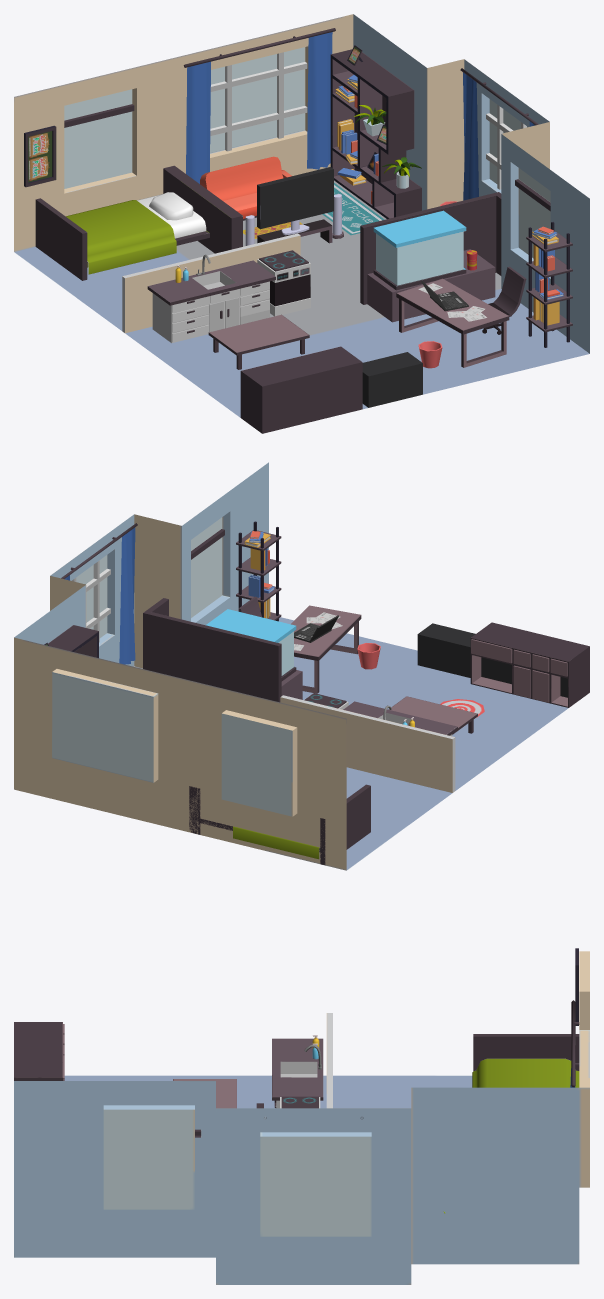
File: LivingRoom.fbx
The picture shows the model from 3 angles, top to bottom: view 1: azimuth 30°, elevation 25°; view 2: azimuth 150°, elevation 25°; view 3: azimuth 270°, elevation 25°; orthographic projection. The views are drawn at different scales.
Parts seen in each view (by area): view 1: Room, Bed, Table3, Window1, BookShelf.Big, Sink, Table1, FishTank, TV, Wall.Small, WorkingTable, Books (+11 smaller); view 2: Room, Table3, Table1, Wall.Small, Bed, Window2, WorkingTable, FishTank, BookShelf.Small, Table2, Sink, Books (+2 smaller); view 3: Room, Bed, Sink, Table3, Table2, Wall.Small, Window1, Stove.
Part boxes in pixels (bbox=[...]): Room: bbox=[14, 14, 589, 417]; Bed: bbox=[35, 165, 242, 280]; Table3: bbox=[240, 346, 422, 433]; Window1: bbox=[64, 28, 550, 211]; BookShelf.Big: bbox=[330, 49, 421, 218]; Sink: bbox=[147, 254, 275, 343]; Table1: bbox=[360, 192, 501, 322]; FishTank: bbox=[373, 210, 466, 290]; TV: bbox=[245, 167, 343, 245]; Wall.Small: bbox=[122, 233, 300, 333]; WorkingTable: bbox=[396, 278, 509, 367]; Books: bbox=[335, 75, 563, 325]; Room: bbox=[14, 462, 568, 870]; Table3: bbox=[417, 622, 589, 707]; Table1: bbox=[143, 598, 302, 702]; Wall.Small: bbox=[280, 695, 455, 792]; Bed: bbox=[189, 784, 370, 865]; Window2: bbox=[61, 523, 137, 664]; WorkingTable: bbox=[291, 605, 361, 693]; FishTank: bbox=[206, 609, 296, 681]; BookShelf.Small: bbox=[236, 521, 281, 621]; Table2: bbox=[388, 696, 477, 734]; Sink: bbox=[343, 701, 457, 736]; Books: bbox=[244, 531, 274, 618]; Room: bbox=[14, 951, 589, 1284]; Bed: bbox=[472, 1034, 579, 1087]; Sink: bbox=[272, 1038, 323, 1108]; Table3: bbox=[14, 1022, 64, 1080]; Table2: bbox=[173, 1079, 236, 1108]; Wall.Small: bbox=[326, 1013, 332, 1108]; Window1: bbox=[195, 1000, 579, 1137]; Stove: bbox=[280, 1096, 320, 1108].
Bounding box in the file's own units: 839 × 324 × 957.
